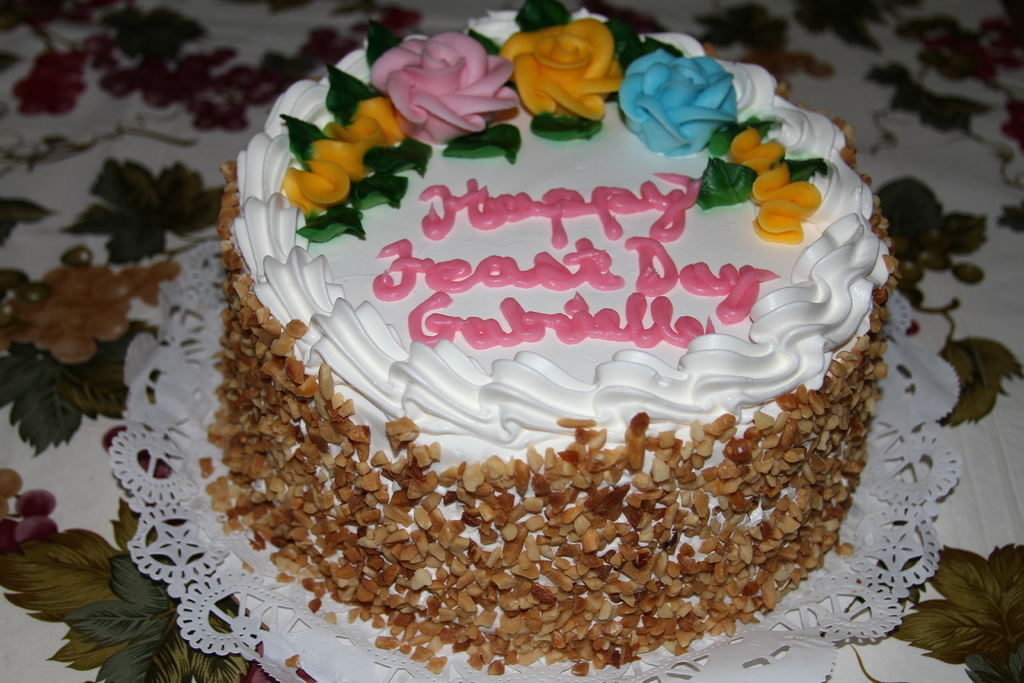cake: (207, 0, 902, 671)
